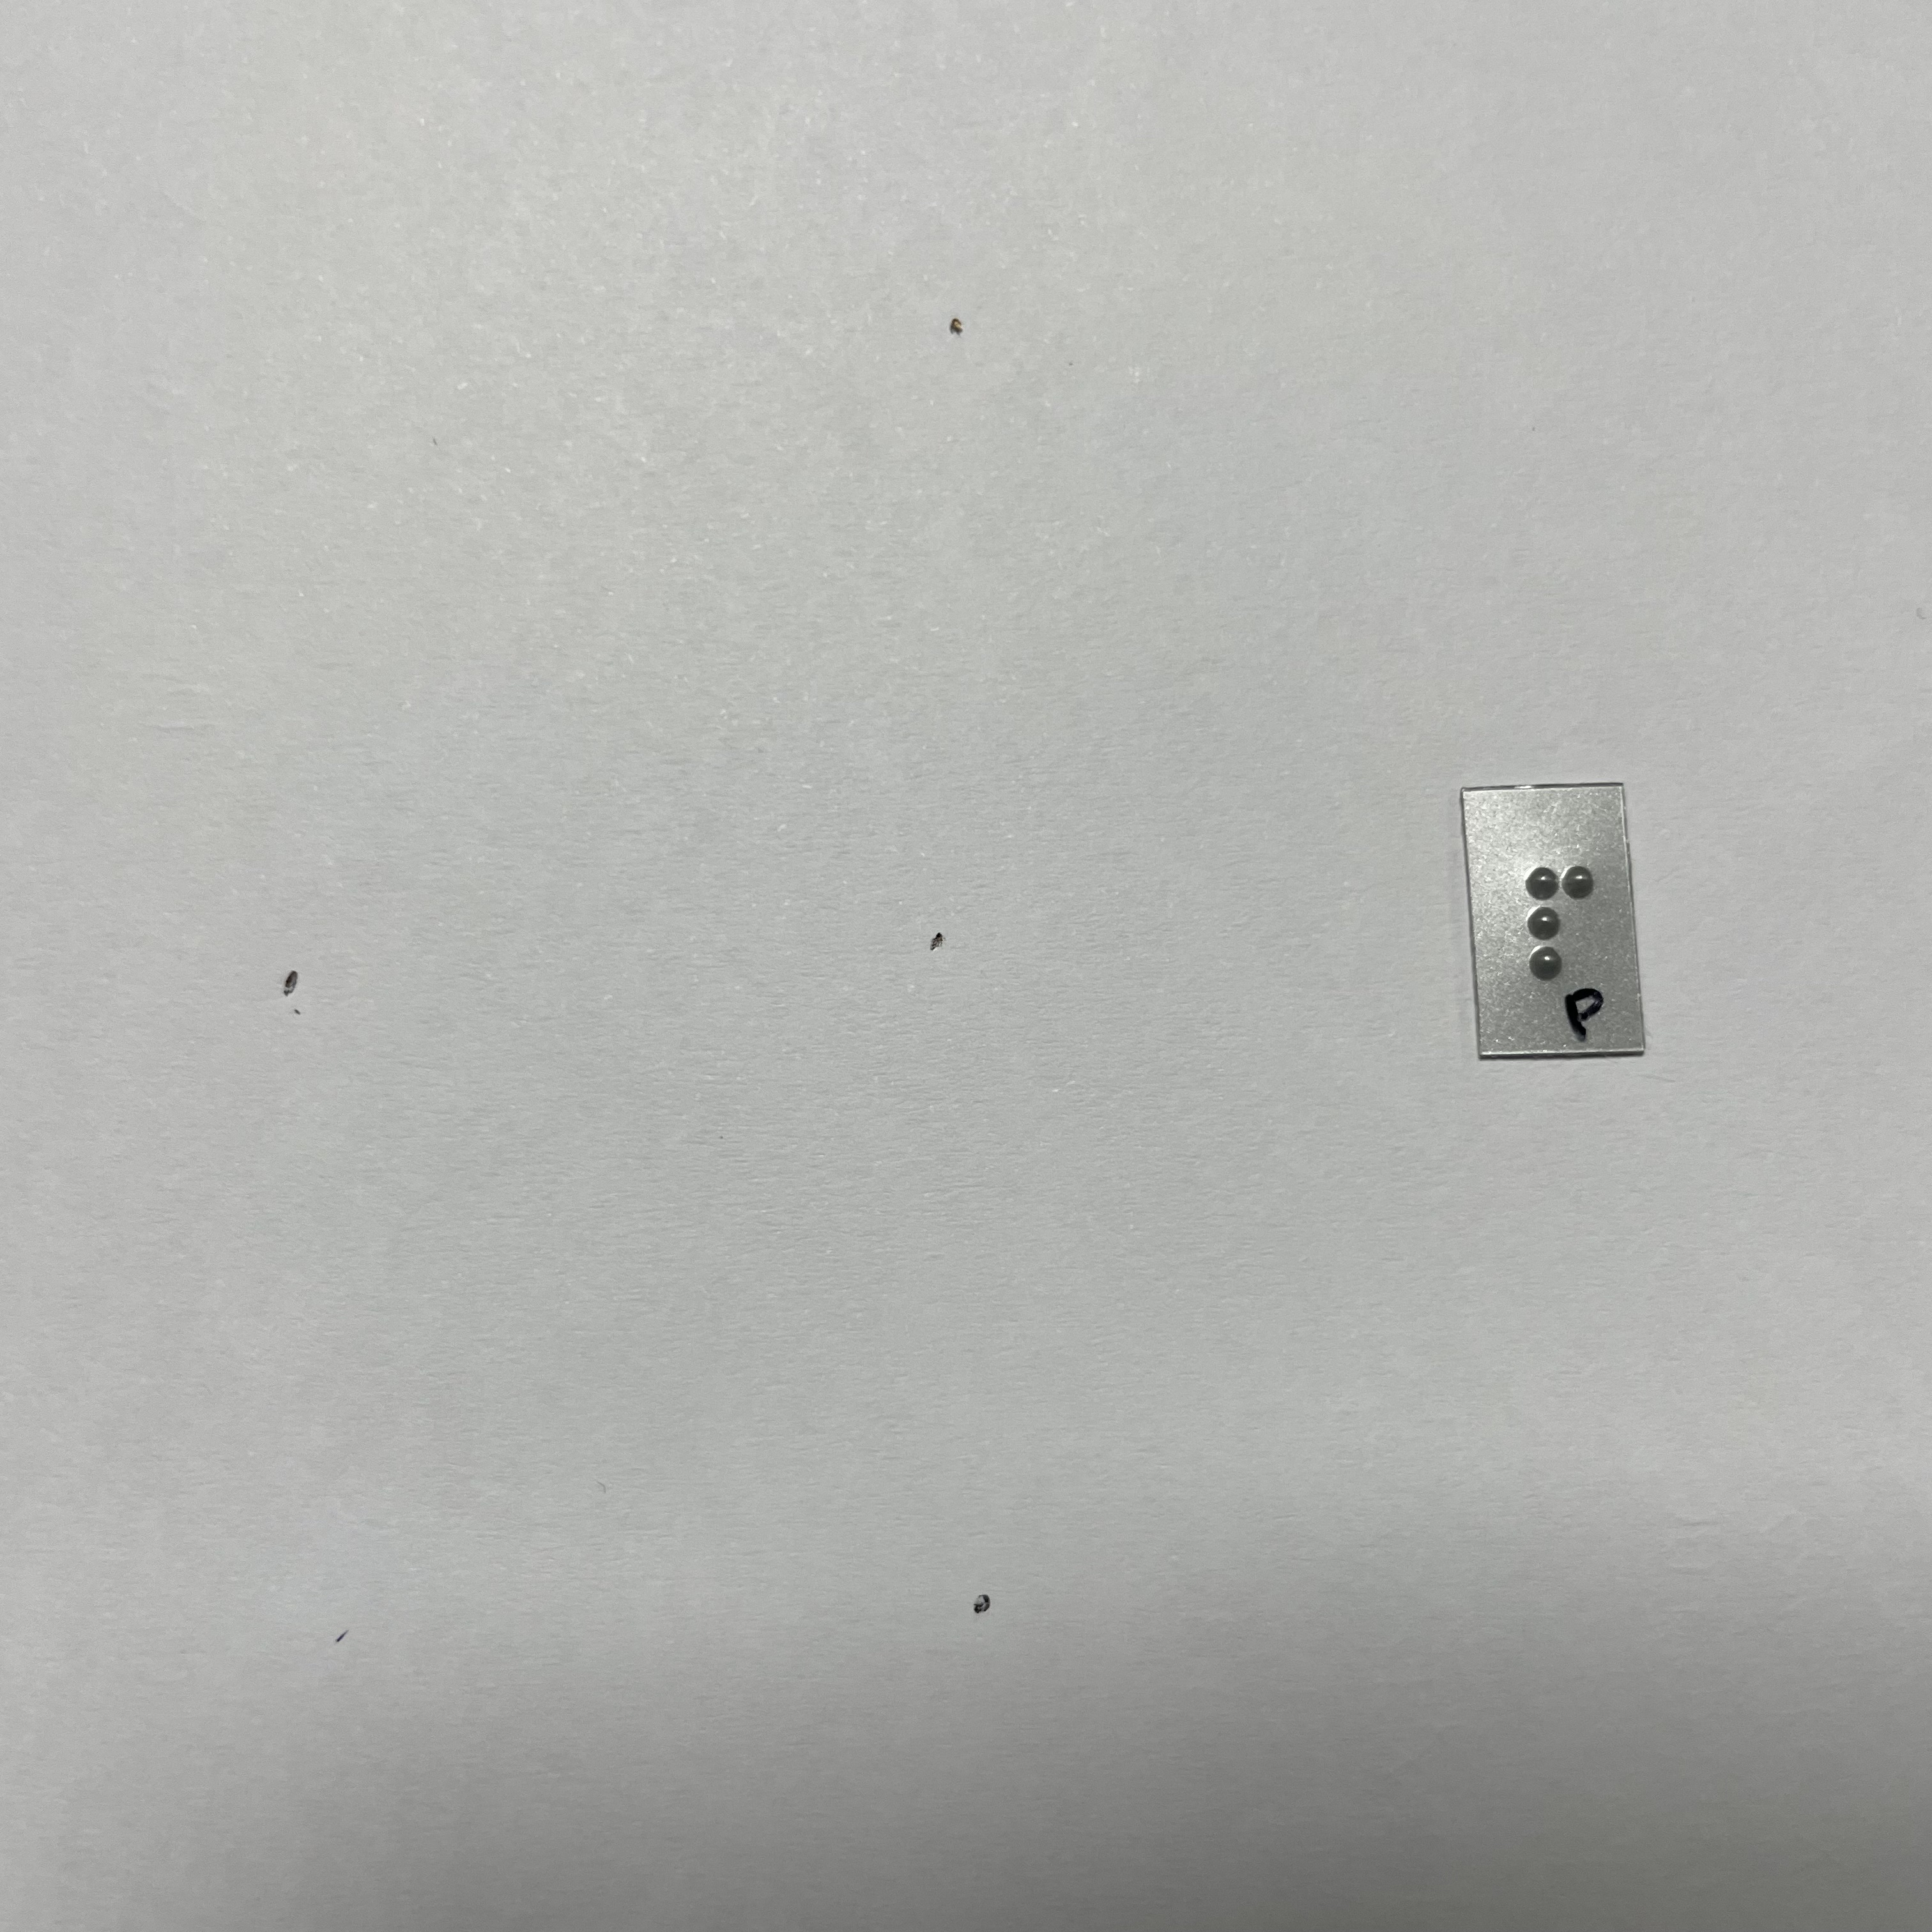p: (1510, 847, 1607, 992)
